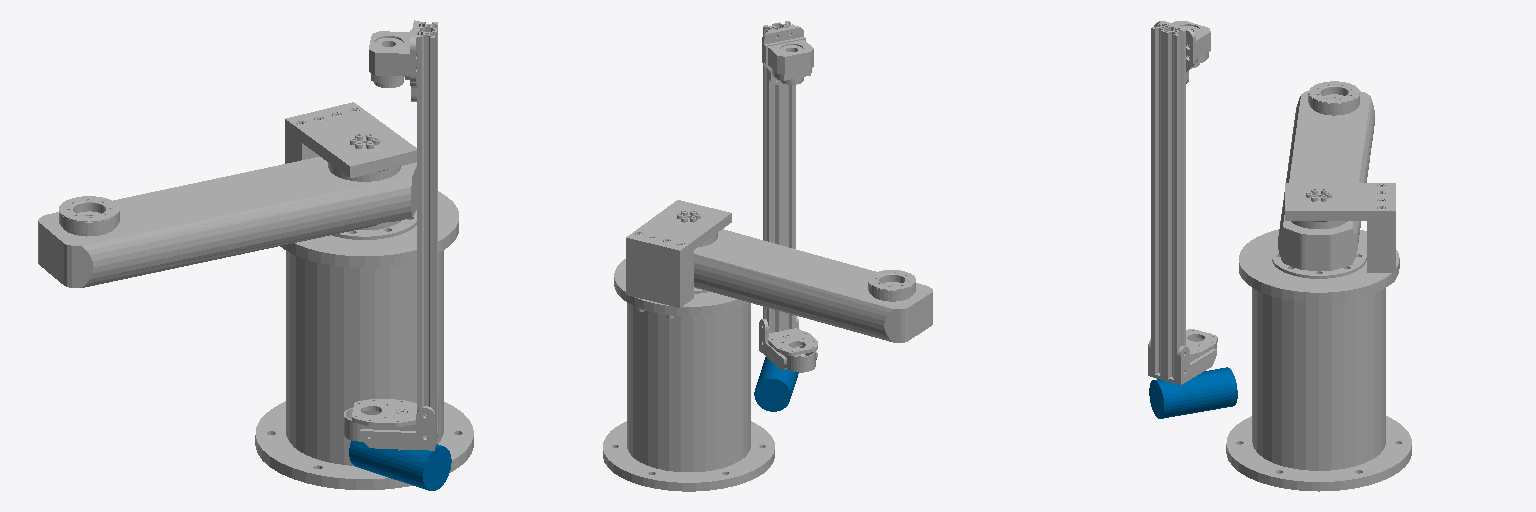
robot.urdf — SCARAsw:
<?xml version="1.0" encoding="utf-8" ?>
<!-- This URDF was automatically created by SolidWorks to URDF Exporter! Originally created by [author] ([email redacted]) 
     Commit Version: 1.5.1-0-g916b5db  Build Version: 1.5.7152.31018
     For more information, please see http://wiki.ros.org/sw_urdf_exporter -->
<robot name="SCARAsw">
    <link name="base">
        
<inertial>
            <origin xyz="-0.041021 -0.01091 -0.010011" rpy="0 0 0" />
            <mass value="15.652" />
            <inertia ixx="0.077426" ixy="1.6503E-15" ixz="-3.9874E-16" iyy="0.08833" iyz="9.4391E-06" izz="0.07706" />
        </inertial>

        <visual>
            <origin xyz="0 0 0" rpy="0 0 0" />
            <geometry>
                <mesh filename="package://SCARAsw/meshes/base.STL" />
            </geometry>
            <material name="">
                <color rgba="0.75294 0.75294 0.75294 1" />
            </material>
        </visual>
        <collision>
            <origin xyz="0 0 0" rpy="0 0 0" />
            <geometry>
                <mesh filename="package://SCARAsw/meshes/base.STL" />
            </geometry>
        </collision>
    </link>
    <link name="humero">
        
<inertial>
            <origin xyz="1.0077E-07 0.04781 0.14224" rpy="0 0 0" />
            <mass value="5" />
            <inertia ixx="0.021545" ixy="-2.8561E-09" ixz="-1.8453E-08" iyy="0.022582" iyz="-0.00042031" izz="0.0015981" />
        </inertial>

        <visual>
            <origin xyz="0 0 0" rpy="0 0 0" />
            <geometry>
                <mesh filename="package://SCARAsw/meshes/humero.STL" />
            </geometry>
            <material name="">
                <color rgba="0.75294 0.75294 0.75294 1" />
            </material>
        </visual>
        <collision>
            <origin xyz="0 0 0" rpy="0 0 0" />
            <geometry>
                <mesh filename="package://SCARAsw/meshes/humero.STL" />
            </geometry>
        </collision>
    </link>
    <joint name="hombro" type="revolute">
        <origin xyz="-0.041021 -0.00048803 0.067705" rpy="1.5708 0 -1.6289" />
        <parent link="base" />
        <child link="humero" />
        <axis xyz="0 1 0" />
        <limit lower="0" upper="3.1416" effort="100" velocity="100" />
    </joint>
    <link name="radio_cubito">
        
<inertial>
            <origin xyz="-5.3986E-06 0.1515 0.13928" rpy="0 0 0" />
            <mass value="9" />
            <inertia ixx="0.011379" ixy="1.9223E-08" ixz="-5.0619E-08" iyy="0.0071392" iyz="-0.0017743" izz="0.0062173" />
        </inertial>

        <visual>
            <origin xyz="0 0 0" rpy="0 0 0" />
            <geometry>
                <mesh filename="package://SCARAsw/meshes/radio_cubito.STL" />
            </geometry>
            <material name="">
                <color rgba="0.75294 0.75294 0.75294 1" />
            </material>
        </visual>
        <collision>
            <origin xyz="0 0 0" rpy="0 0 0" />
            <geometry>
                <mesh filename="package://SCARAsw/meshes/radio_cubito.STL" />
            </geometry>
        </collision>
    </link>
    <joint name="codo" type="revolute">
        <origin xyz="0 0.0395 0.33" rpy="3.1416 0.55314 3.1416" />
        <parent link="humero" />
        <child link="radio_cubito" />
        <axis xyz="0 1 0" />
        <limit lower="-4.71" upper="0" effort="100" velocity="100" />
    </joint>
    <link name="zeta">
        
<inertial>
            <origin xyz="-0.011881 0.036578 -0.016578" rpy="0 0 0" />
            <mass value="2" />
            <inertia ixx="0.0028275" ixy="3.4325E-06" ixz="2.9944E-10" iyy="0.00010967" iyz="1.0805E-11" izz="0.0028174" />
        </inertial>

        <visual>
            <origin xyz="0 0 0" rpy="0 0 0" />
            <geometry>
                <mesh filename="package://SCARAsw/meshes/zeta.STL" />
            </geometry>
            <material name="">
                <color rgba="0.75294 0.75294 0.75294 1" />
            </material>
        </visual>
        <collision>
            <origin xyz="0 0 0" rpy="0 0 0" />
            <geometry>
                <mesh filename="package://SCARAsw/meshes/zeta.STL" />
            </geometry>
        </collision>
    </link>
    <joint name="prism" type="prismatic">
        <origin xyz="0.016578 0 0.33289" rpy="0 1.5708 0" />
        <parent link="radio_cubito" />
        <child link="zeta" />
        <axis xyz="0 1 0" />
        <limit lower="-0.040" upper="0.182" effort="100" velocity="100" />
    </joint>
    <link name="puntita">
        <visual>
            <geometry>
                <cylinder length="0.1" radius="0.025" />
            </geometry>
        </visual>
    </link>
    <joint name="end" type="fixed">
        <origin xyz="0 -0.24 0" rpy="0 1 0" />
        <parent link="zeta" />
        <child link="puntita" />
    </joint>
    
<transmission name="trans_hombro">
        <type>transmission_interface/SimpleTransmission</type>
        <joint name="hombro">
            <hardwareInterface>hardware_interface/EffortJointInterface</hardwareInterface>
        </joint>
        <actuator name="hombro_motor">
            <hardwareInterface>hardware_interface/EffortJointInterface</hardwareInterface>
            <mechanicalReduction>1</mechanicalReduction>
        </actuator>
    </transmission>
    <transmission name="trans_codo">
        <type>transmission_interface/SimpleTransmission</type>
        <joint name="codo">
            <hardwareInterface>hardware_interface/EffortJointInterface</hardwareInterface>
        </joint>
        <actuator name="codo_motor">
            <hardwareInterface>hardware_interface/EffortJointInterface</hardwareInterface>
            <mechanicalReduction>1</mechanicalReduction>
        </actuator>
    </transmission>
    <transmission name="trans_prism">
        <type>transmission_interface/SimpleTransmission</type>
        <joint name="prism">
            <hardwareInterface>hardware_interface/EffortJointInterface</hardwareInterface>
        </joint>
        <actuator name="prism_motor">
            <hardwareInterface>hardware_interface/EffortJointInterface</hardwareInterface>
            <mechanicalReduction>1</mechanicalReduction>
        </actuator>
    </transmission>
    <gazebo>
        <plugin name="gazebo_ros_control" filename="libgazebo_ros_control.so">
            <robotNamespace>/</robotNamespace>
        </plugin>
    </gazebo>
</robot>

--- Facts derived from the render (not from the file) ---
The picture shows the robot from 3 angles, left to right: view 1: azimuth 30°, elevation 25°; view 2: azimuth 150°, elevation 25°; view 3: azimuth 270°, elevation 25°; orthographic projection.
Robot: SCARAsw — 5 links, 4 joints (2 revolute, 1 prismatic, 1 fixed); root link base; default pose: every joint at zero.
Links seen in each view (by area): view 1: base, humero, zeta, puntita; view 2: base, humero, zeta, puntita; view 3: base, zeta, humero, puntita.
Boxes of the visible links, x1,y1,x2,y2 form: base: (255, 102, 473, 489); humero: (38, 157, 416, 287); zeta: (344, 20, 438, 450); puntita: (349, 440, 451, 490); base: (603, 200, 774, 491); humero: (694, 229, 932, 342); zeta: (759, 21, 817, 372); puntita: (754, 357, 798, 411); base: (1226, 183, 1411, 491); zeta: (1148, 21, 1217, 385); humero: (1278, 81, 1374, 270); puntita: (1149, 367, 1237, 418).
Bounding box of the posed robot: 0.4931 × 0.3326 × 0.5733 m (x, y, z).
3 mesh visuals loaded from 4 distinct referenced files (3 binary STL); not drawn: 1 (reference not matched to a file when rendering).